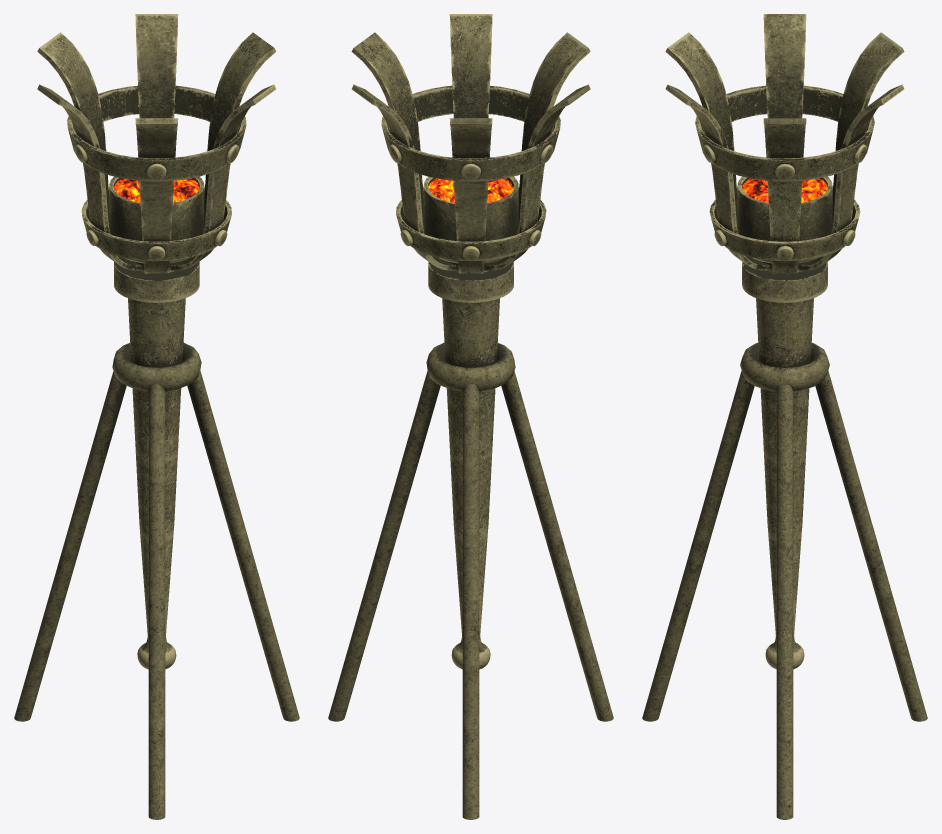
The model's file is floor_torch.glb.
3 renders of one model, left to right at view 1: azimuth 30°, elevation 25°; view 2: azimuth 150°, elevation 25°; view 3: azimuth 270°, elevation 25°, orthographic.
Visible parts, largest first — view 1: Torch; view 2: Torch; view 3: Torch.
Boxes of the visible parts, box(x1,y1,x2,y2) form: Torch: box(14, 14, 299, 819); Torch: box(328, 14, 613, 819); Torch: box(642, 14, 927, 819).
Bounding box in the file's own units: 0.4823 × 1.26 × 0.4754.
1 material, 1 textured.
